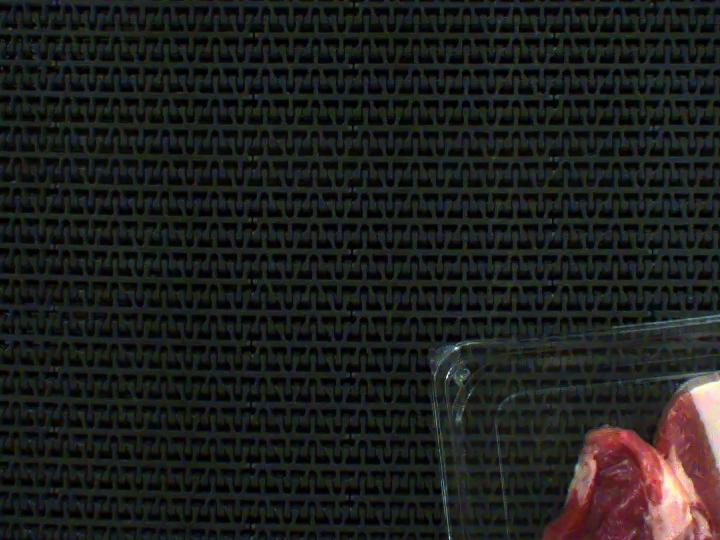loose-meat: (556, 418, 663, 540)
